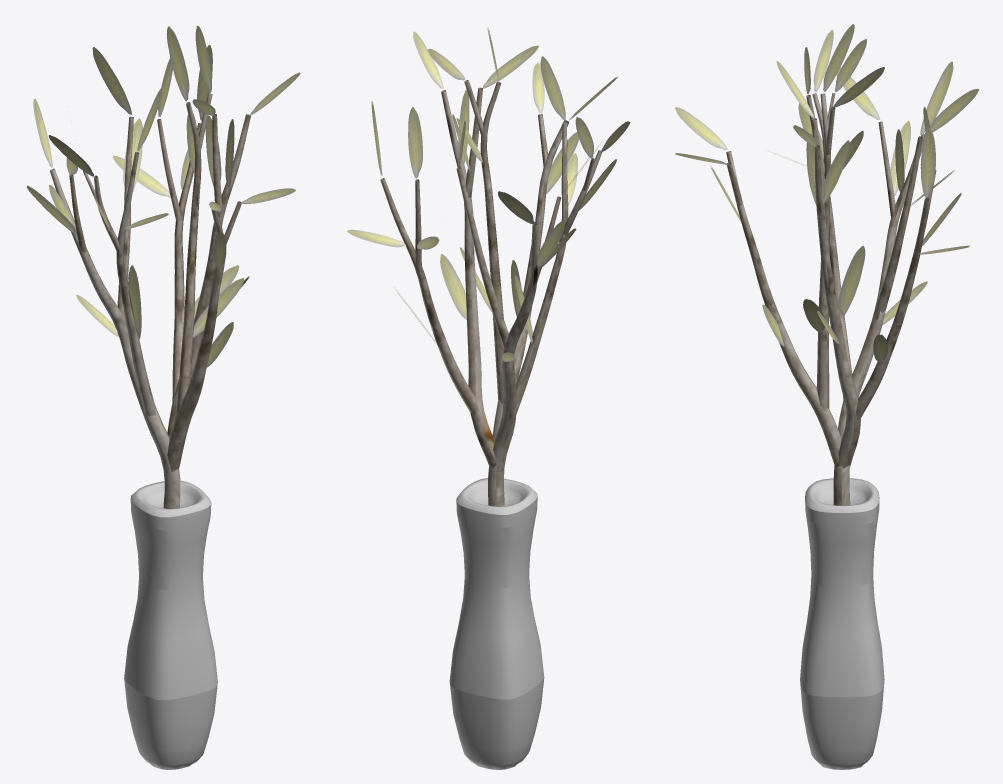
File: Tanaman.fbx
3 views of the same model, side by side, from view 1: azimuth 30°, elevation 25°; view 2: azimuth 150°, elevation 25°; view 3: azimuth 270°, elevation 25° (orthographic).
Visible parts, largest first — view 1: Cube.008, tree.001, leaves.001; view 2: Cube.008, tree.001, leaves.001; view 3: Cube.008, tree.001, leaves.001.
Part boxes in pixels (x1,y1,x2,y2): Cube.008: (124,480,217,769); tree.001: (50,93,250,508); leaves.001: (26,25,300,367); Cube.008: (449,478,544,769); tree.001: (380,80,602,506); leaves.001: (347,28,630,361); Cube.008: (800,478,884,769); tree.001: (726,93,936,505); leaves.001: (675,24,978,363).
Size of the model in its own units: 83.15 by 238 by 93.32.
